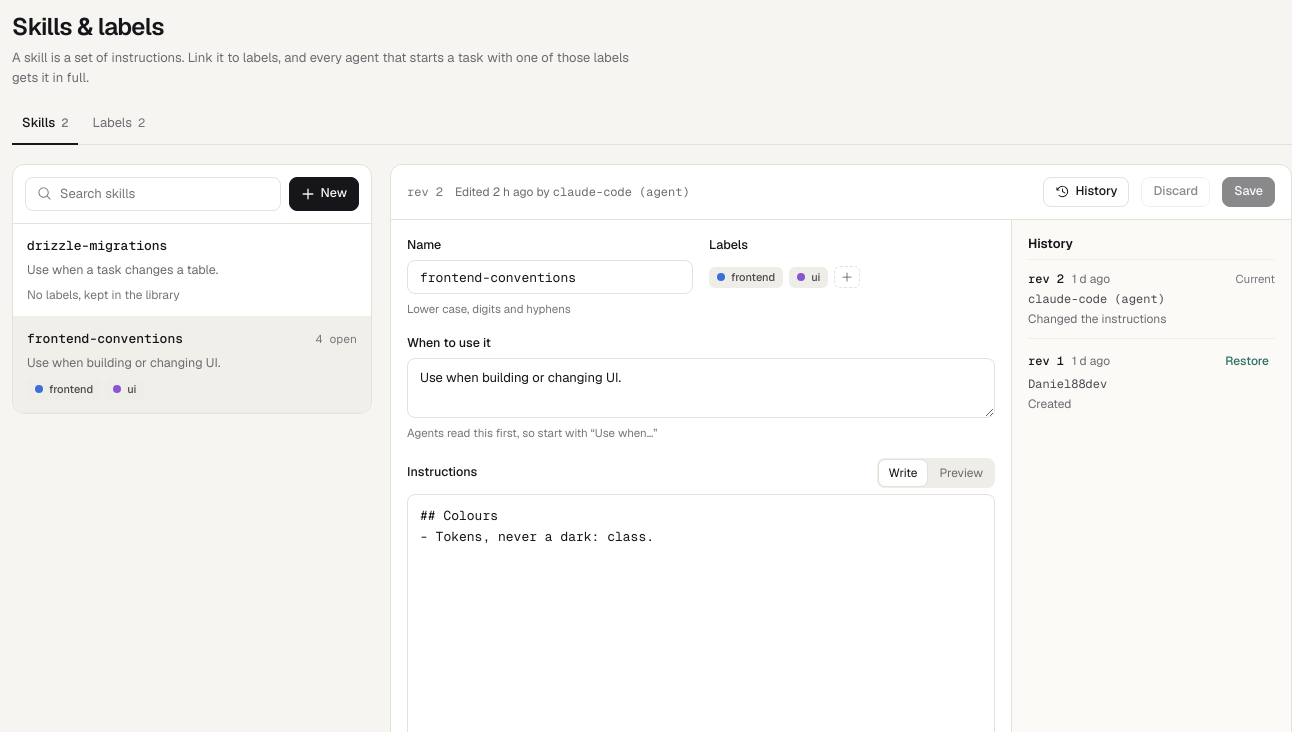
Scenario: SkillsScreen › offers Save only once something changed
Expected: the button "Save" is disabled, top-left (1222, 176), bottom-right (1275, 206)
Replace the text in the text box labelled "When to use it" with "Use when touching any screen.". click: [701, 388]
box: top-left (407, 358), bottom-right (995, 418)
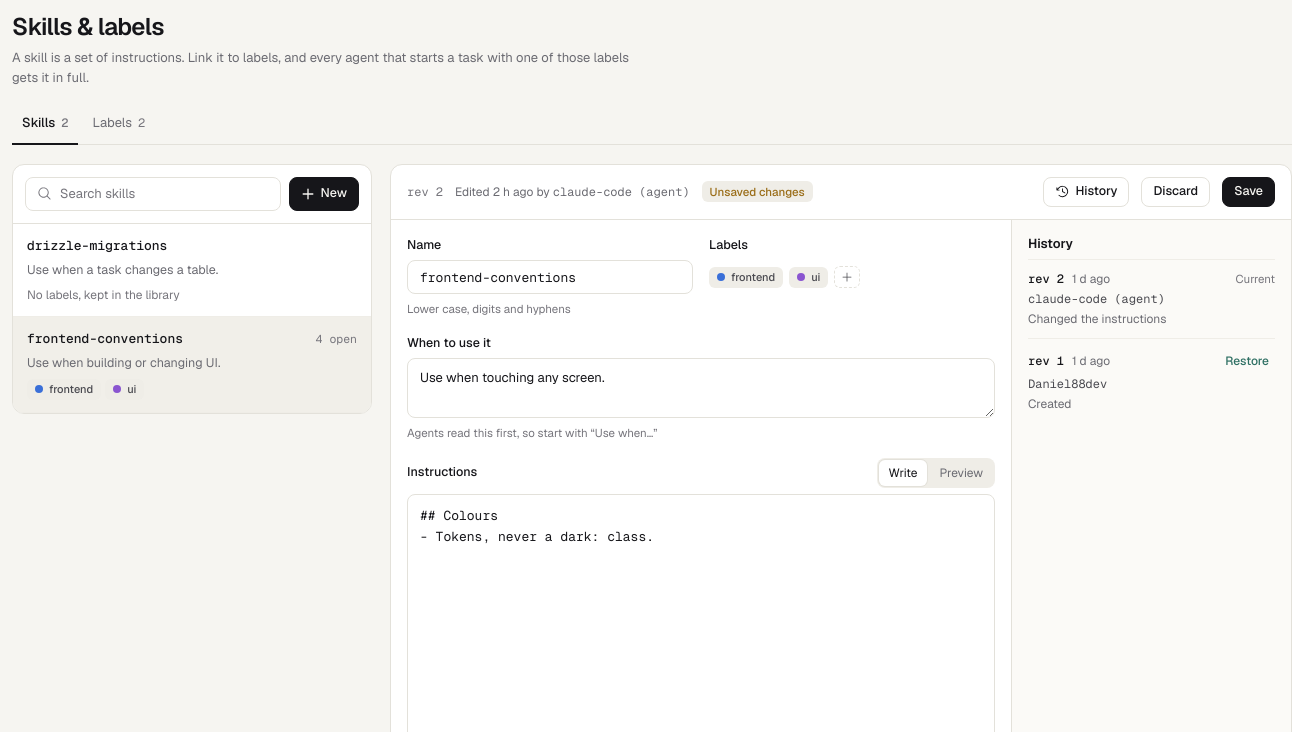
Now the button "Save" is enabled, box top-left (1222, 176), bottom-right (1275, 206)
Now the text "Unsaved changes" is shown, box top-left (702, 181), bottom-right (813, 202)
